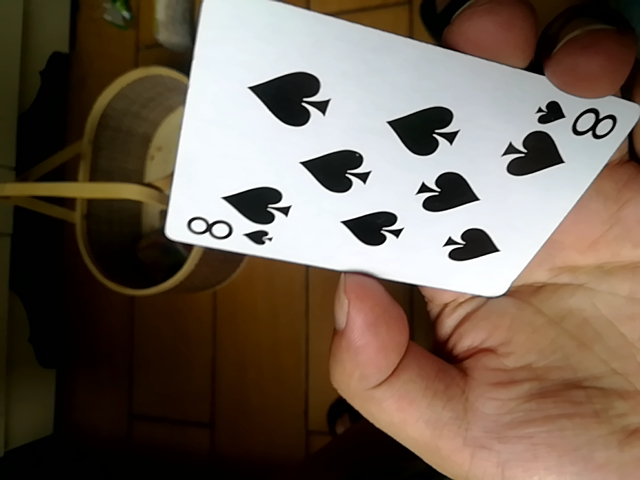ht 8: (164, 0, 638, 304)
